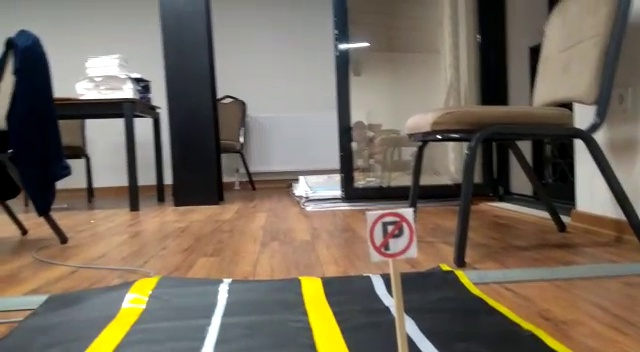park_yapilmaz: (364, 208, 417, 262)
